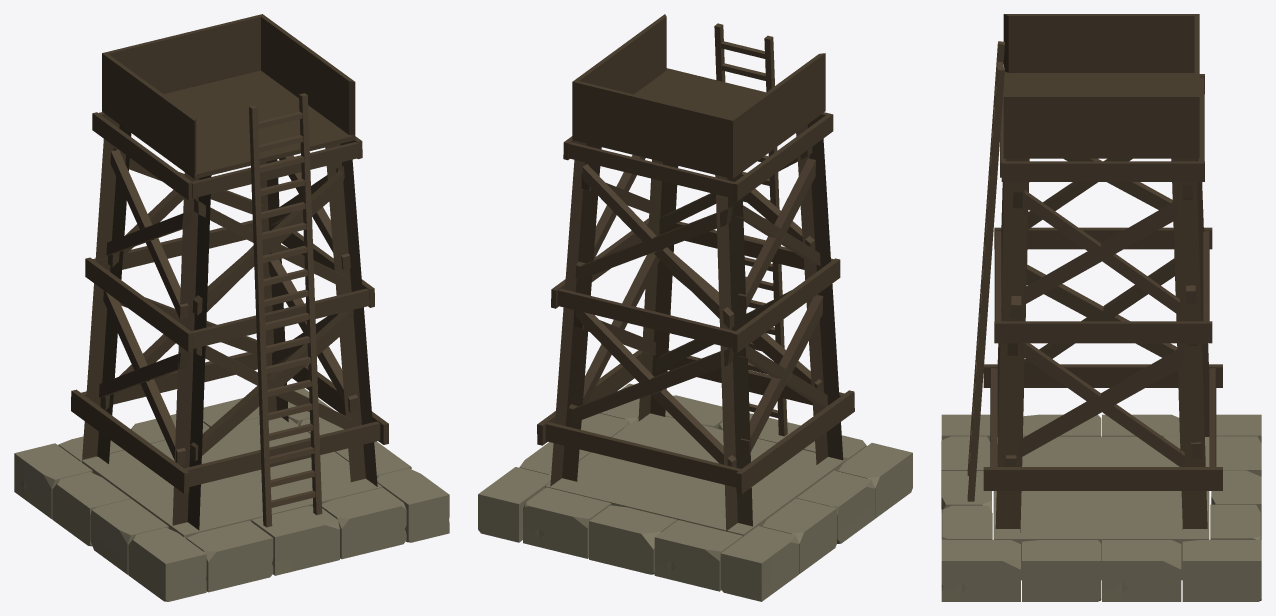
Rendered from tower.glb.
The picture shows the model from 3 angles, left to right: view 1: azimuth 30°, elevation 25°; view 2: azimuth 150°, elevation 25°; view 3: azimuth 270°, elevation 25°; orthographic projection. The views are drawn at different scales.
Visible parts, largest first — view 1: walls, Ladder, Cube.013, Plane.002, Plane.001, Plane.004, Cube.003, Cube.016, Cube.007, Cube.011, Cube.021, Cube.019 (+24 smaller); view 2: walls, Cube.013, Plane.004, Plane.003, Plane.002, Cube.017, Cube.022, Cube, Cube.004, Cube.008, Cube.012, Plane.005 (+25 smaller); view 3: walls, Cube.013, Plane.003, Plane.001, Cube.015, Plane.006, Cube.020, Plane.011, Cube.005, Cube.010, Cube.006, Cube.009 (+23 smaller).
Part boxes in pixels (x1,y1,x2,y2): walls: (102, 14, 355, 179); Ladder: (249, 93, 322, 527); Cube.013: (82, 417, 382, 538); Plane.002: (172, 172, 211, 530); Plane.001: (325, 141, 377, 486); Plane.004: (82, 114, 131, 463); Cube.003: (128, 527, 206, 601); Cube.016: (190, 310, 355, 461); Cube.007: (186, 520, 273, 592); Cube.011: (322, 487, 406, 559); Cube.021: (192, 170, 348, 315); Cube.019: (251, 506, 339, 575); walls: (572, 14, 825, 178); Cube.013: (545, 413, 845, 536); Plane.004: (715, 172, 752, 531); Plane.003: (550, 141, 601, 486); Plane.002: (796, 124, 843, 464); Cube.017: (571, 310, 736, 467); Cube.022: (578, 164, 734, 328); Cube: (720, 526, 798, 601); Cube.004: (654, 520, 743, 591); Cube.008: (523, 487, 611, 558); Cube.012: (589, 505, 677, 574); Plane.005: (545, 422, 740, 487); walls: (1003, 14, 1199, 158); Cube.013: (993, 436, 1209, 580); Plane.003: (1171, 158, 1207, 529); Plane.001: (995, 158, 1029, 532); Cube.015: (1019, 343, 1184, 466); Plane.006: (983, 467, 1222, 490); Cube.020: (1023, 190, 1179, 315); Plane.011: (994, 321, 1212, 343); Cube.005: (1182, 540, 1261, 601); Cube.010: (941, 540, 1020, 601); Cube.006: (1102, 540, 1181, 601); Cube.009: (1022, 540, 1101, 601).
Size of the model in its own units: 8.03 by 12.08 by 7.42.
